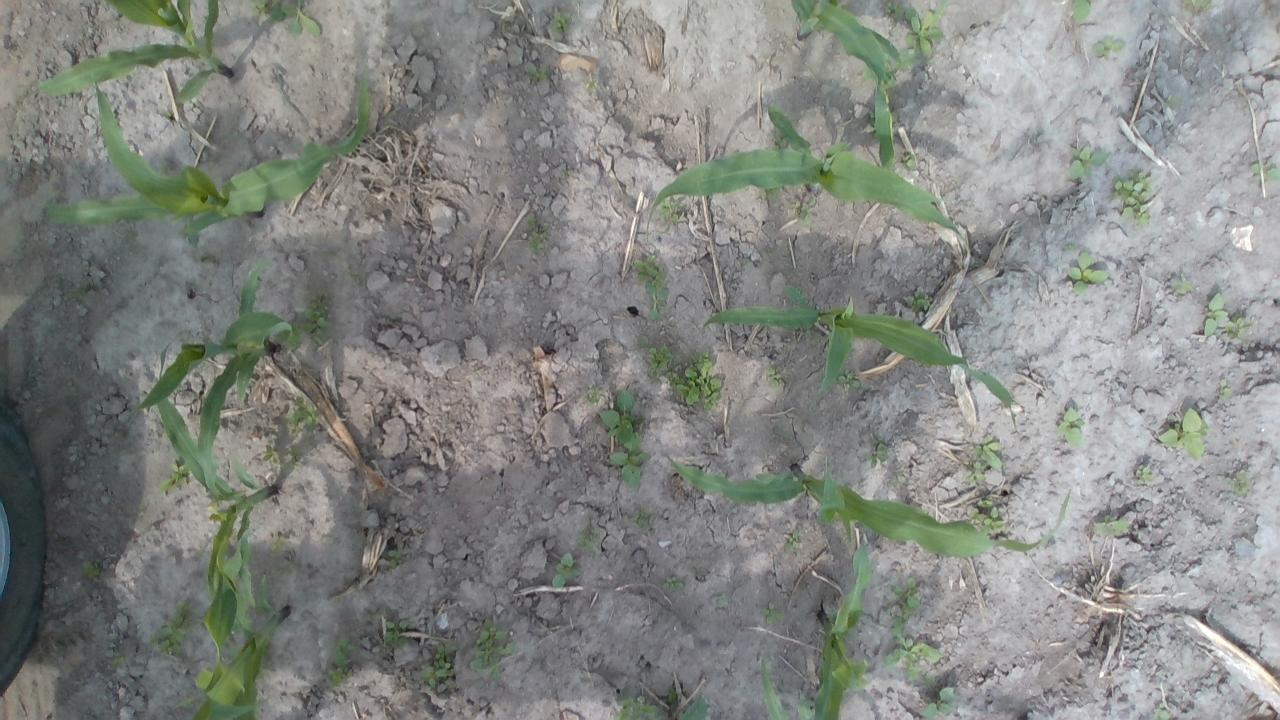Maize: (41, 81, 372, 245), (647, 103, 970, 243), (702, 286, 1016, 430), (665, 456, 1070, 557), (127, 259, 294, 500), (150, 395, 280, 692), (177, 520, 293, 720), (36, 0, 235, 104), (790, 1, 910, 167), (816, 540, 872, 720), (759, 655, 814, 720)
Weeds: (884, 614, 940, 684), (666, 352, 722, 410), (469, 620, 514, 680), (1158, 408, 1209, 460), (149, 598, 196, 654), (599, 390, 643, 448), (1112, 170, 1154, 227), (609, 430, 650, 487), (907, 8, 945, 56), (1068, 252, 1108, 294), (422, 644, 457, 687), (1068, 144, 1108, 181), (968, 498, 1007, 534), (304, 297, 332, 346), (328, 636, 355, 686), (614, 696, 668, 720), (283, 1, 321, 34), (1056, 406, 1086, 447), (1203, 293, 1230, 337), (551, 552, 583, 589), (922, 687, 956, 720), (288, 395, 320, 430), (678, 689, 712, 720), (894, 577, 920, 617), (646, 344, 674, 380), (526, 214, 550, 256), (972, 436, 1004, 467), (634, 255, 664, 284), (644, 286, 669, 320), (384, 620, 414, 648), (160, 459, 187, 490), (1093, 515, 1131, 537), (863, 67, 899, 88), (1250, 158, 1280, 182), (1092, 38, 1124, 60), (251, 0, 283, 22), (904, 286, 932, 310), (1226, 469, 1250, 496), (962, 462, 988, 486), (576, 526, 600, 552), (867, 441, 890, 468), (761, 600, 785, 624), (1228, 315, 1251, 340), (790, 198, 814, 221), (884, 0, 908, 23), (1180, 0, 1212, 17), (524, 63, 548, 85), (660, 198, 680, 224), (633, 505, 653, 530), (1072, 0, 1094, 22), (279, 324, 299, 348), (283, 445, 302, 470), (1172, 274, 1193, 296), (896, 52, 918, 72), (552, 10, 572, 32), (1134, 464, 1154, 484), (838, 372, 861, 389), (661, 575, 684, 592), (261, 444, 279, 465), (784, 530, 801, 552), (82, 562, 102, 578), (768, 368, 783, 388), (1218, 380, 1232, 401), (1153, 702, 1169, 720), (387, 550, 402, 569), (270, 532, 284, 552), (69, 284, 89, 298), (585, 389, 602, 405), (585, 74, 598, 92), (112, 652, 126, 668), (760, 188, 780, 199), (902, 152, 916, 167), (772, 136, 787, 150), (346, 268, 360, 282), (669, 686, 679, 704), (716, 594, 729, 606), (893, 474, 907, 485), (321, 248, 338, 257), (1168, 94, 1180, 106), (164, 156, 174, 170), (692, 568, 706, 576), (561, 169, 573, 177), (165, 110, 173, 121), (1064, 244, 1074, 252), (892, 112, 898, 124), (868, 111, 874, 120)
